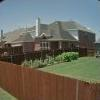Chimney: (31, 17, 54, 42)
